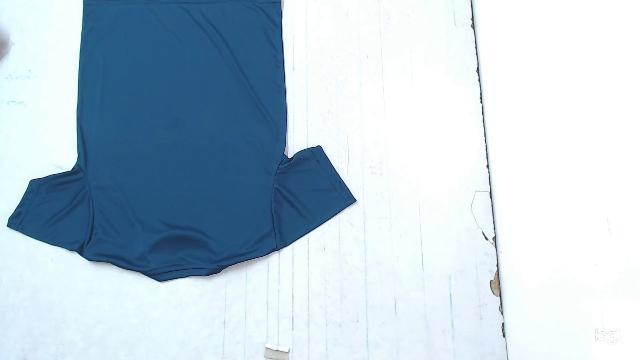new-garment: (8, 0, 355, 281)
